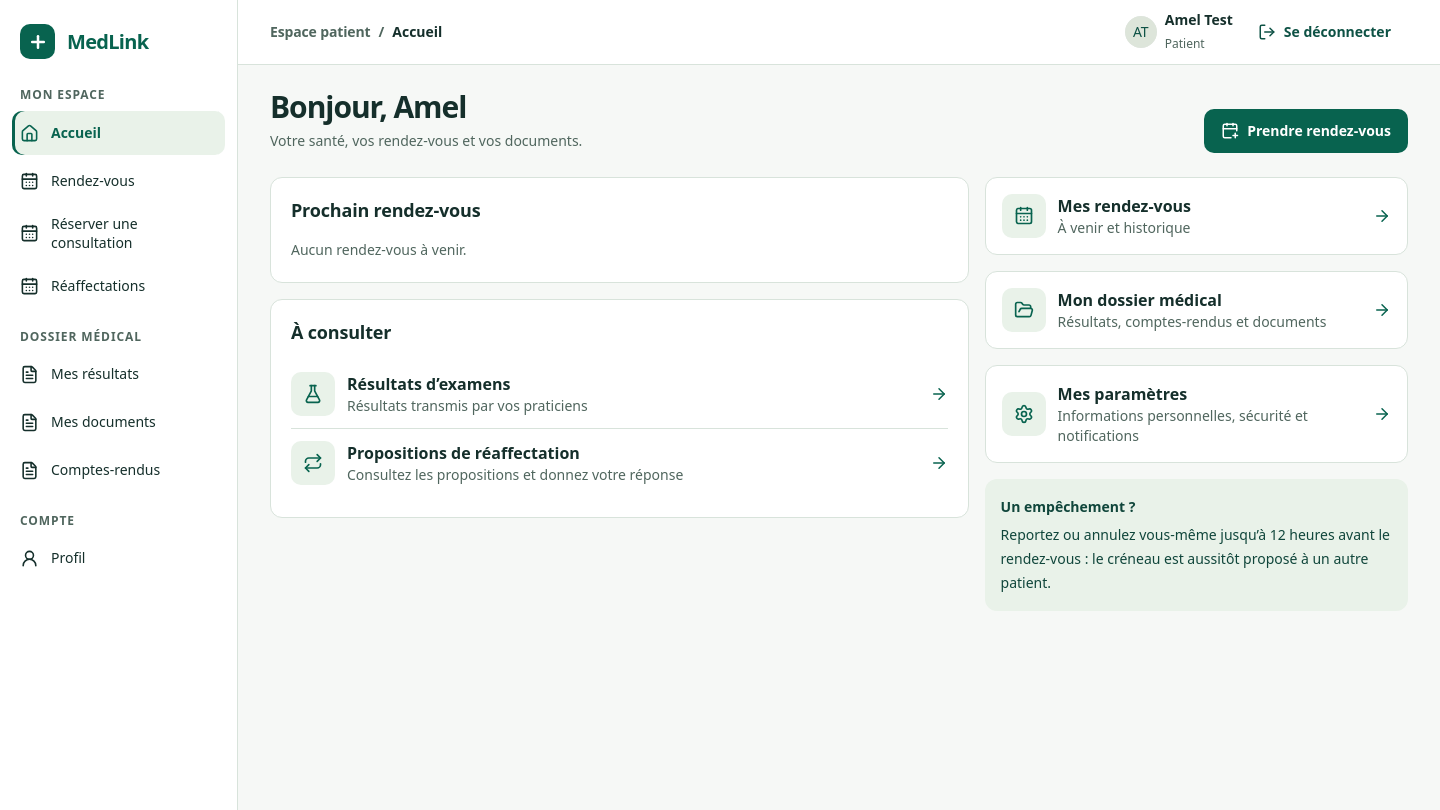
a patient opens the slot search from home and the desktop menu marks the booking route
Click the link "Prendre rendez-vous" at (1306, 131), box [1204, 109, 1408, 153]
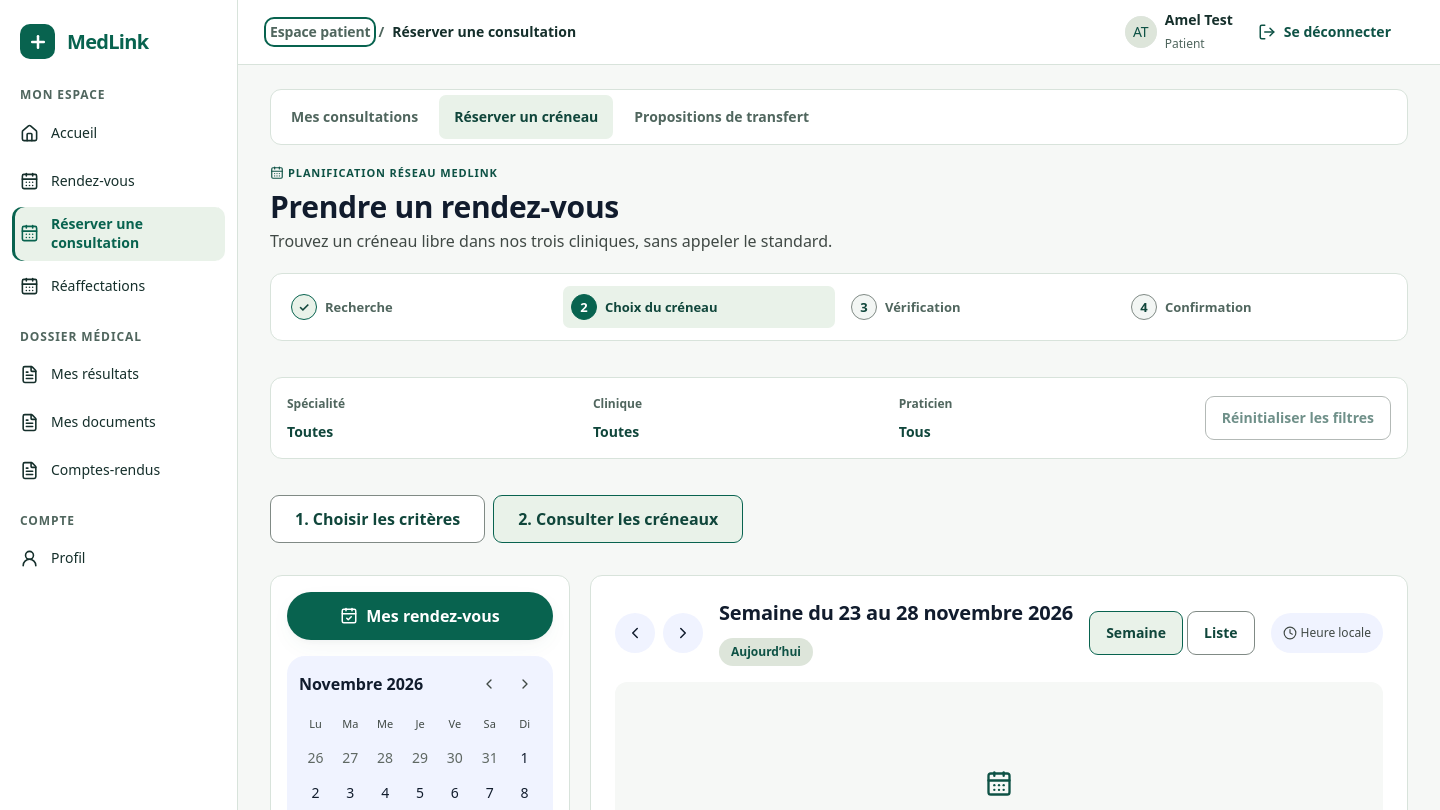
expect the heading "Prendre un rendez-vous" is shown: met, box [270, 186, 619, 227]
